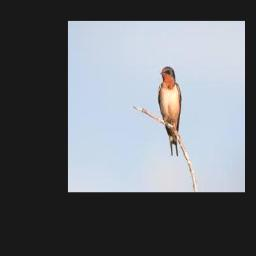Swallow: (158, 66, 181, 155)
